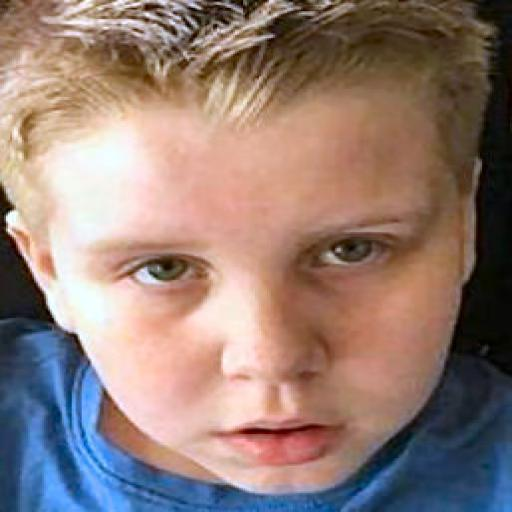Autism: (9, 7, 512, 512)
